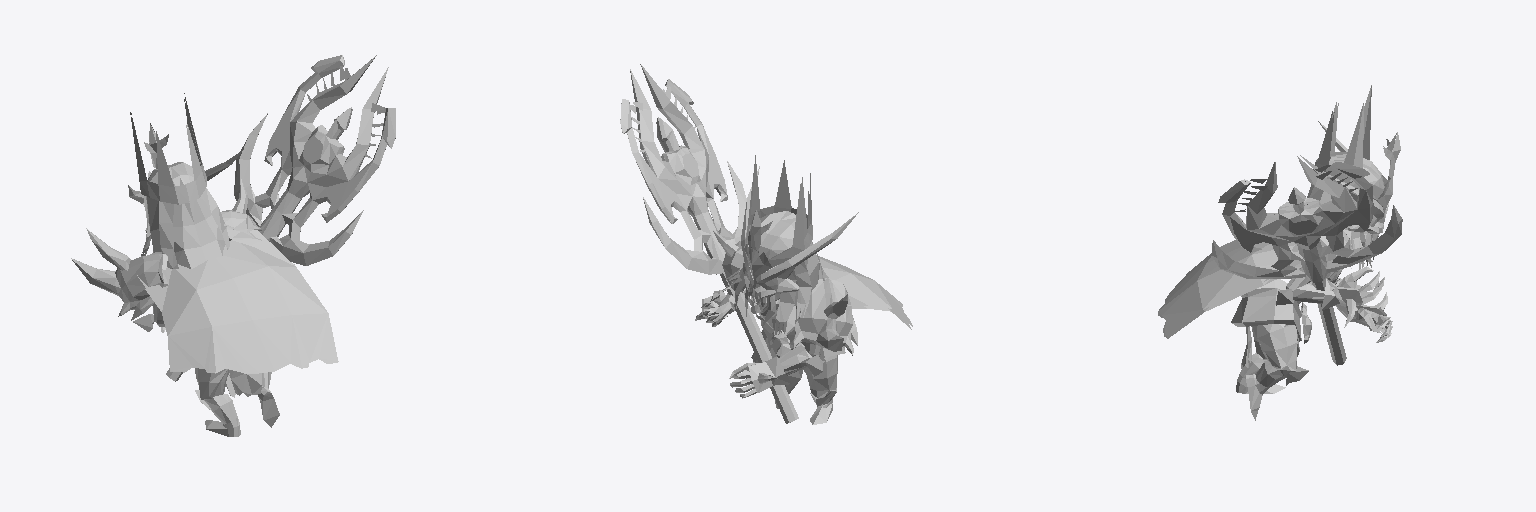
File: Run (30).obj
3 views of the same model, side by side, from view 1: azimuth 30°, elevation 25°; view 2: azimuth 150°, elevation 25°; view 3: azimuth 270°, elevation 25° (orthographic).
Visible parts, largest first — view 1: skeleton_king_LOD120, skeleton_weapon_LOD120; view 2: skeleton_king_LOD120, skeleton_weapon_LOD120; view 3: skeleton_king_LOD120, skeleton_weapon_LOD120.
Part boxes in pixels (left/top/right/bottom): skeleton_king_LOD120: left=71, top=93, right=338, bottom=436; skeleton_weapon_LOD120: left=166, top=55, right=395, bottom=381; skeleton_king_LOD120: left=695, top=155, right=912, bottom=424; skeleton_weapon_LOD120: left=620, top=64, right=798, bottom=423; skeleton_king_LOD120: left=1158, top=85, right=1400, bottom=420; skeleton_weapon_LOD120: left=1212, top=156, right=1402, bottom=365.
Size of the model in its own units: 4.16 by 4.97 by 3.37.